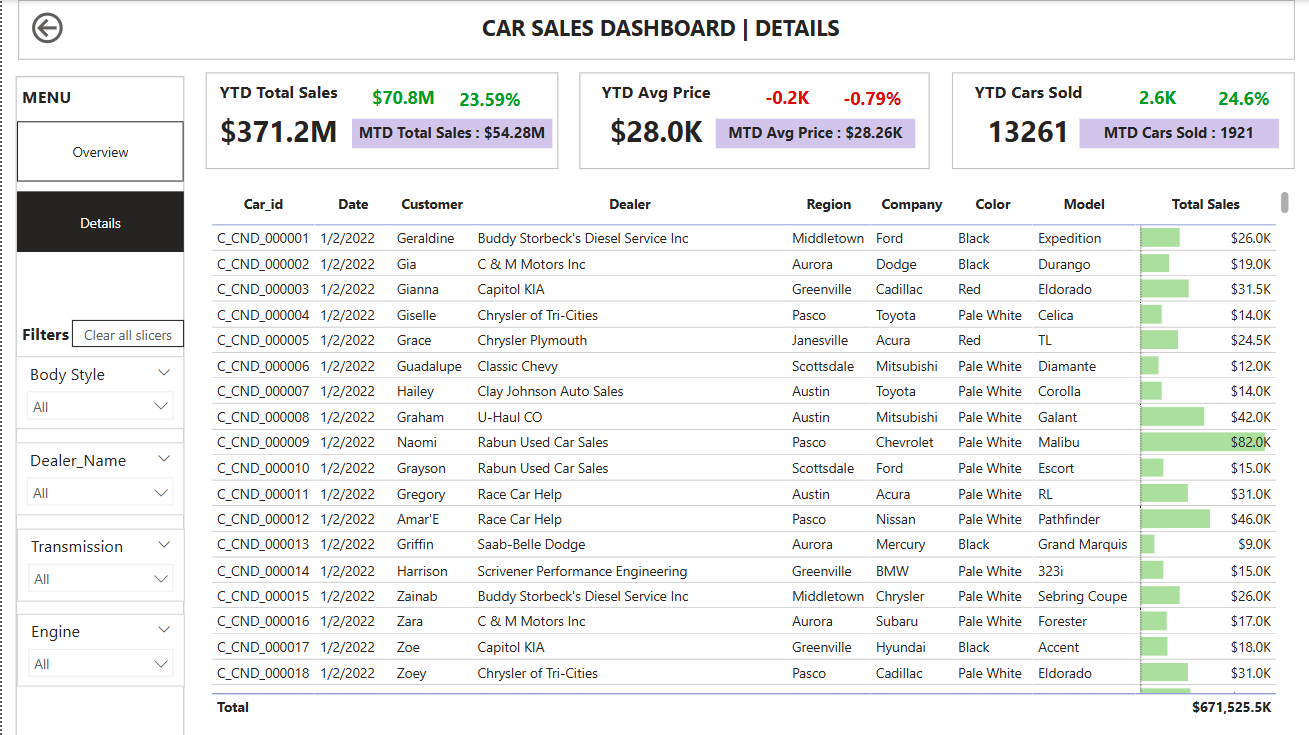

This screenshot's page, from the dashboard's own definition file:
{"tool":"powerbi","page":{"name":"Details","canvas":[1280,720],"ordinal":1},"visuals":[{"type":"cardVisual","fields":{"Data":["Measures Table (2).MTD KPI"]},"box":[199,71.4,344.4,94.7],"z":0},{"type":"card","title":"YTD Total Sales","fields":{"Values":["Measures Table (2).YTD Total Sales"]},"box":[205.8,78.2,130.4,81],"z":1000},{"type":"card","title":"Yearly Sales Difference","fields":{"Values":["Measures Table (2).Sales difference"]},"box":[351.3,78.2,83.7,38.4],"z":2000},{"type":"card","title":"Yearly Sales Growth","fields":{"Values":["Measures Table (2).Sales Growth"]},"box":[440.5,78.2,74.1,41.2],"z":3000},{"type":"card","title":"MTD Total Sales","fields":{"Values":["Measures Table (2).MTD KPI"]},"box":[342,116,196,29],"z":4000},{"type":"cardVisual","fields":{"Data":["Measures Table (2).MTD KPI"]},"box":[15.7,0,1248.6,58.4],"z":5000},{"type":"cardVisual","fields":{"Data":["Measures Table (2).MTD KPI"]},"box":[13.7,74.1,164.7,646.3],"z":6000},{"type":"cardVisual","fields":{"Data":["Measures Table (2).MTD KPI"]},"box":[564.8,71.4,342.2,94.7],"z":7000},{"type":"cardVisual","fields":{"Data":["Measures Table (2).MTD KPI"]},"box":[929,71.4,334.8,94.7],"z":8000},{"type":"card","title":"YTD Avg Price","fields":{"Values":["Measures Table (2).YTD Avg Price"]},"box":[575,78.2,130.4,81],"z":9000},{"type":"card","title":"Yearly Sales Difference","fields":{"Values":["Measures Table (2).Avg Price Diff"]},"box":[725.9,78.2,83.7,38.4],"z":10000},{"type":"card","title":"Yearly Sales Difference","fields":{"Values":["Measures Table (2).Avg Price Growth"]},"box":[809.6,79.6,83.7,38.4],"z":11000},{"type":"card","title":"MTD Total Sales","fields":{"Values":["Measures Table (2).MDT Avg Price KPI"]},"box":[698.5,116.6,194.9,28.8],"z":12000},{"type":"card","title":"YTD Cars Sold","fields":{"Values":["Measures Table (2).YTD Cars Sold"]},"box":[938.6,78.2,130.4,81],"z":13000},{"type":"card","title":"Yearly Sales Difference","fields":{"Values":["Measures Table (2).Cars Sold Diff"]},"box":[1096.4,78.2,67.2,38.4],"z":14000},{"type":"card","title":"Yearly Sales Difference","fields":{"Values":["Measures Table (2).Cars Sold Growth"]},"box":[1181.5,79.6,67.2,38.4],"z":15000},{"type":"card","title":"MTD Total Sales","fields":{"Values":["Measures Table (2).MTD Cars Sold KPI"]},"box":[1053.9,116.6,194.9,28.8],"z":16000},{"type":"textbox","box":[464.7,7.3,428,45.2],"z":17000},{"type":"tableEx","fields":{"Values":["car_data.Car_id","car_data.Date","car_data.Customer Name","car_data.Dealer_Name","car_data.Dealer_Region","car_data.Company","car_data.Color","car_data.Model","Sum(car_data.Price ($))"]},"box":[199.3,182.2,1065.1,525.8],"z":18000},{"type":"group","id":"g1","title":"Group 1","box":[13.5,348.5,165.1,322.8],"z":18000,"group":"g2"},{"type":"pageNavigator","box":[14.7,118.6,163.9,129.6],"z":19000},{"type":"textbox","box":[14.7,310.6,77,33],"z":19000,"group":"g2"},{"type":"textbox","box":[15.1,78.2,105.7,31.6],"z":20000},{"type":"actionButton","box":[68.7,313.2,109.8,26.1],"z":20003,"group":"g2"},{"type":"group","id":"g2","title":"Group 2","box":[13.5,310.6,165.1,360.7],"z":21000},{"type":"actionButton","box":[24.2,7.1,99.8,39.9],"z":22000},{"type":"slicer","fields":{"Values":["car_data.Body Style"]},"box":[13.5,348.5,165.1,70.9],"z":23000,"group":"g1"},{"type":"slicer","fields":{"Values":["car_data.Dealer_Name"]},"box":[13.5,432.9,165.1,70.9],"z":24000,"group":"g1"},{"type":"slicer","fields":{"Values":["car_data.Transmission"]},"box":[14.7,517.3,163.9,70.9],"z":25000,"group":"g1"},{"type":"slicer","fields":{"Values":["car_data.Engine"]},"box":[14.7,600.4,163.9,70.9],"z":26000,"group":"g1"}]}

Visuals, with their boxes in screenshot pixels (x1, y1, x2, y2), scaled from the page's 1280x720 canvas onto the 1309x735 screenshot:
cardVisual - Measures Table (2).MTD KPI: 204/73/556/170
"YTD Total Sales" card: 210/80/344/163
"Yearly Sales Difference" card: 359/80/445/119
"Yearly Sales Growth" card: 450/80/526/122
"MTD Total Sales" card: 350/118/550/148
cardVisual - Measures Table (2).MTD KPI: 16/0/1293/60
cardVisual - Measures Table (2).MTD KPI: 14/76/182/734
cardVisual - Measures Table (2).MTD KPI: 578/73/928/170
cardVisual - Measures Table (2).MTD KPI: 950/73/1292/170
"YTD Avg Price" card: 588/80/721/163
"Yearly Sales Difference" card: 742/80/828/119
"Yearly Sales Difference" card: 828/81/914/120
"MTD Total Sales" card: 714/119/914/148
"YTD Cars Sold" card: 960/80/1093/163
"Yearly Sales Difference" card: 1121/80/1190/119
"Yearly Sales Difference" card: 1208/81/1277/120
"MTD Total Sales" card: 1078/119/1277/148
textbox: 475/7/913/54
tableEx - car_data.Car_id x car_data.Date: 204/186/1293/723
"Group 1" group: 14/356/183/685
pageNavigator: 15/121/183/253
textbox: 15/317/94/351
textbox: 15/80/124/112
actionButton: 70/320/183/346
"Group 2" group: 14/317/183/685
actionButton: 25/7/127/48
slicer - car_data.Body Style: 14/356/183/428
slicer - car_data.Dealer_Name: 14/442/183/514
slicer - car_data.Transmission: 15/528/183/600
slicer - car_data.Engine: 15/613/183/685
